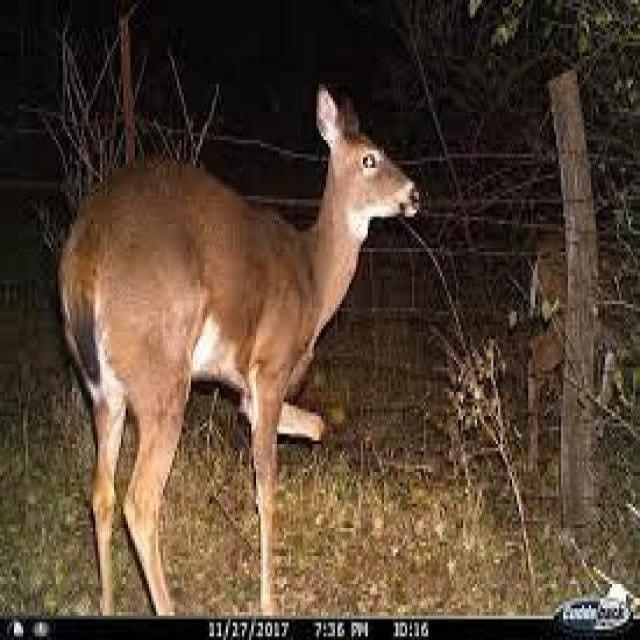deer: (34, 69, 423, 615)
